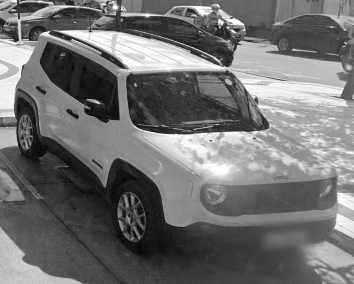car: (14, 24, 342, 265)
